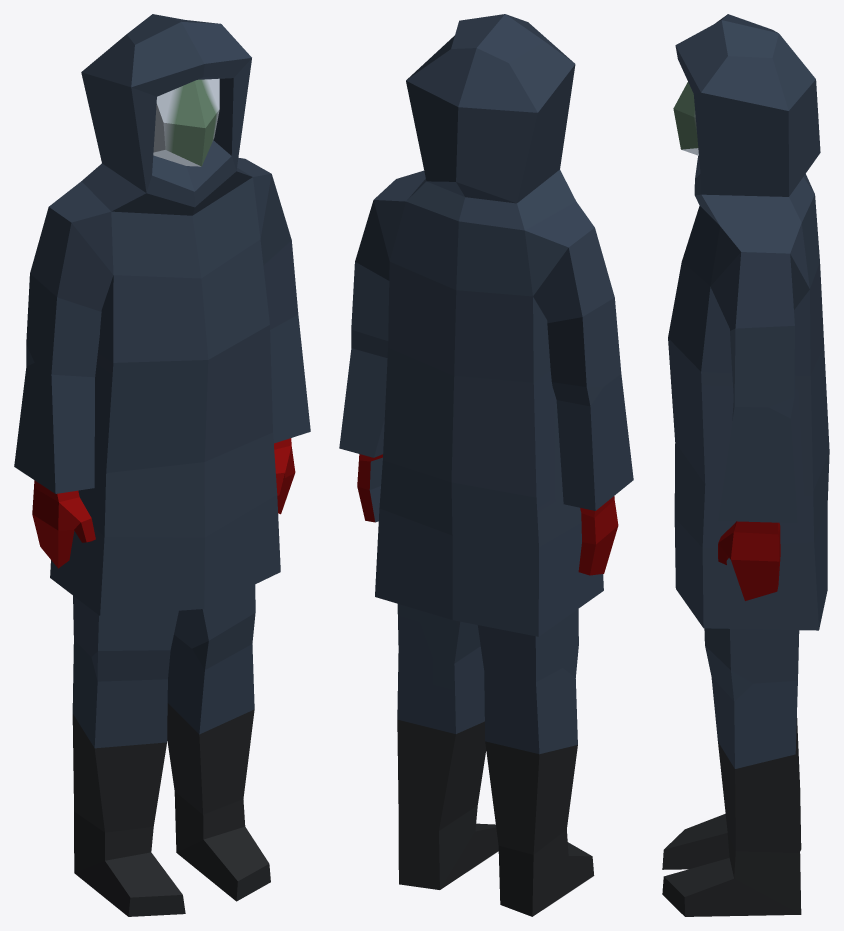
Rendered from neighbour.glb.
The picture shows the model from 3 angles, left to right: view 1: azimuth 30°, elevation 25°; view 2: azimuth 150°, elevation 25°; view 3: azimuth 270°, elevation 25°; orthographic projection.
Visible parts, largest first — view 1: man-eskimo; view 2: man-eskimo; view 3: man-eskimo.
Boxes of the visible parts, x1,y1,x2,y2 form: man-eskimo: (14,14,310,916); man-eskimo: (339,14,633,916); man-eskimo: (662,14,829,916).
Bounding box in the file's own units: 0.5794 × 1.85 × 0.3258.
Materials: 1 (1 with a texture image).
